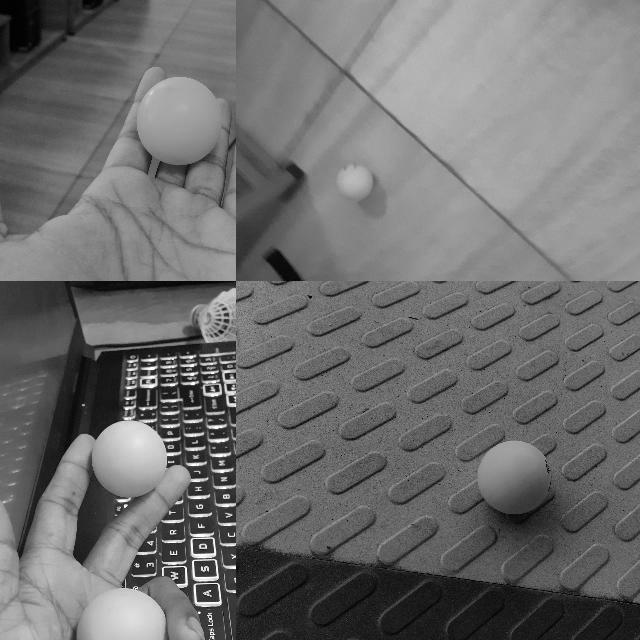ping-pong-ball: (135, 76, 221, 164), (90, 420, 168, 496), (476, 438, 552, 514), (76, 585, 168, 639), (337, 164, 373, 202)
